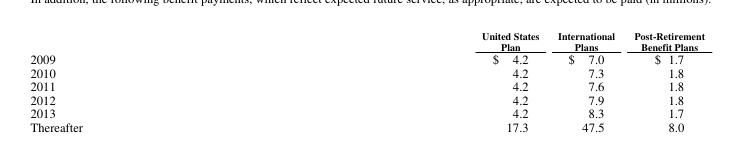table: (29, 28, 703, 134)
table column: (281, 28, 547, 134), (29, 28, 281, 134), (623, 28, 703, 134), (547, 28, 623, 134)
table column header: (29, 28, 703, 51)
table row: (29, 28, 703, 51), (29, 119, 703, 134), (29, 64, 703, 78), (29, 78, 703, 92), (29, 105, 703, 119), (29, 51, 703, 64), (29, 92, 703, 105)
